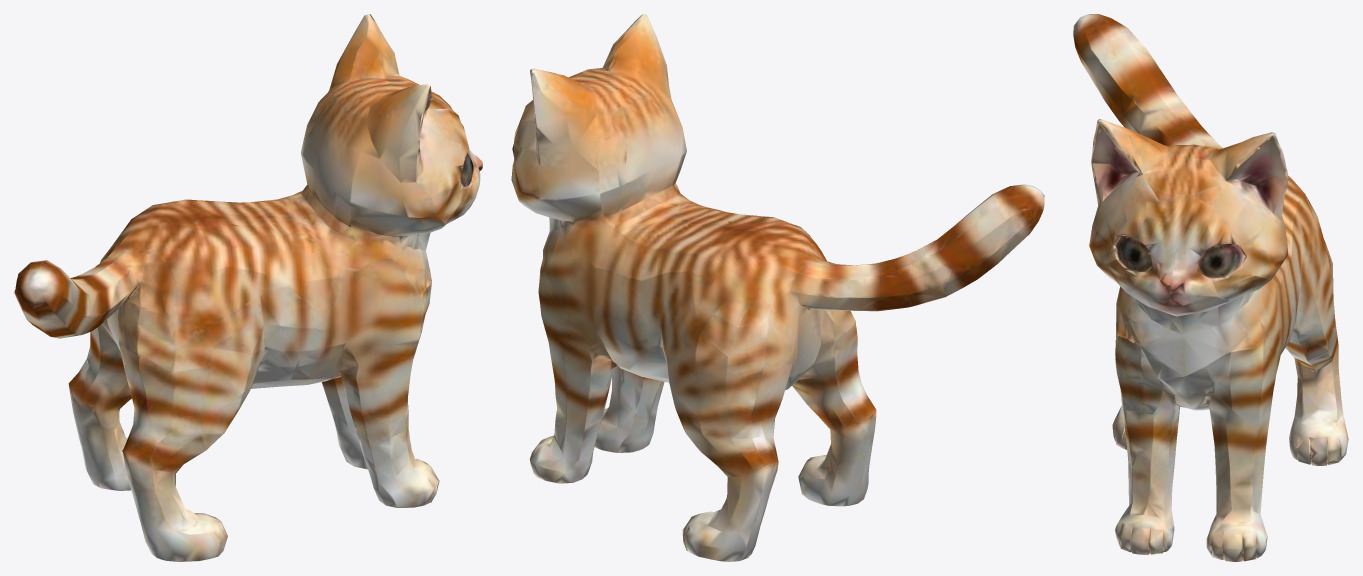
File: WINDSOCK-lo.glb
3 views of the same model, side by side, from view 1: azimuth 30°, elevation 25°; view 2: azimuth 150°, elevation 25°; view 3: azimuth 270°, elevation 25° (orthographic). The views are drawn at different scales.
Parts seen in each view (by area): view 1: fit; view 2: fit; view 3: fit.
Boxes of the visible parts, x1,y1,x2,y2 form: fit: (14, 14, 482, 561); fit: (511, 14, 1044, 561); fit: (1073, 14, 1348, 561).
Bounding box in the file's own units: 1.22 × 0.9997 × 0.5883.
1 material, 1 textured.
